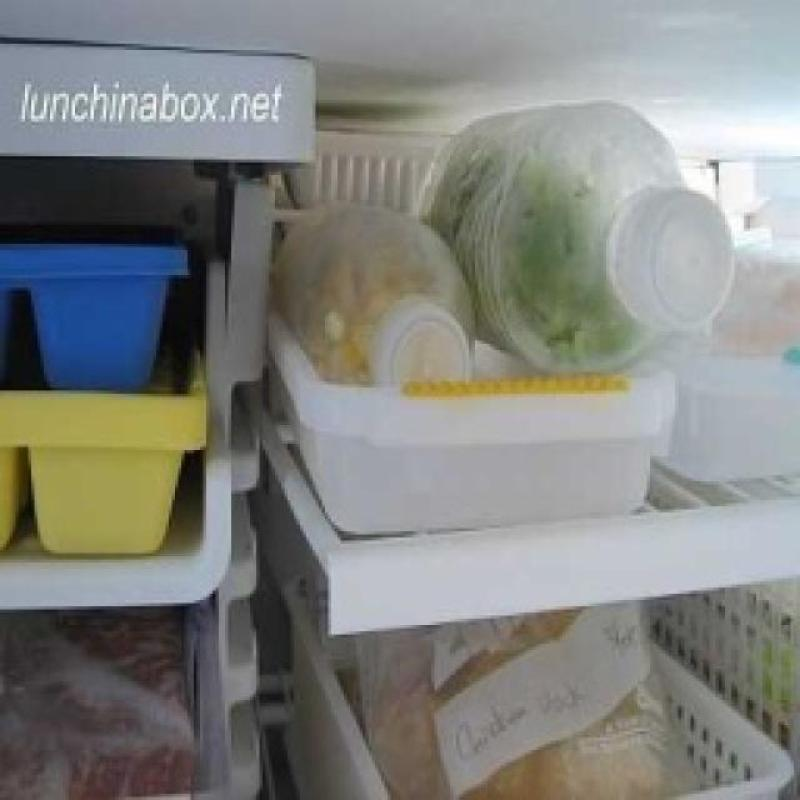botella: (420, 101, 732, 380), (272, 202, 478, 383)
